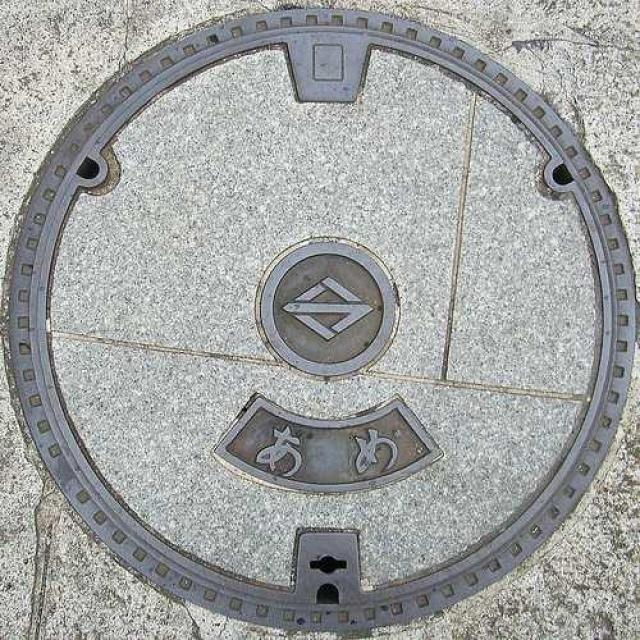manhole: (3, 10, 640, 635)
